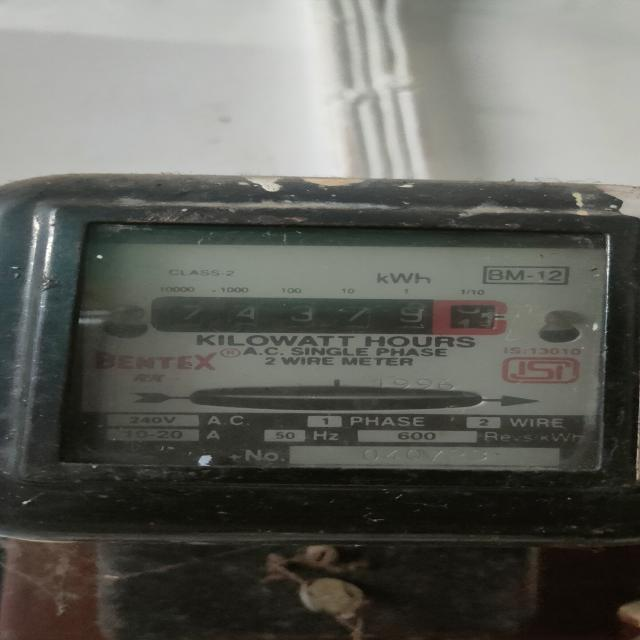display: (150, 295, 510, 338)
